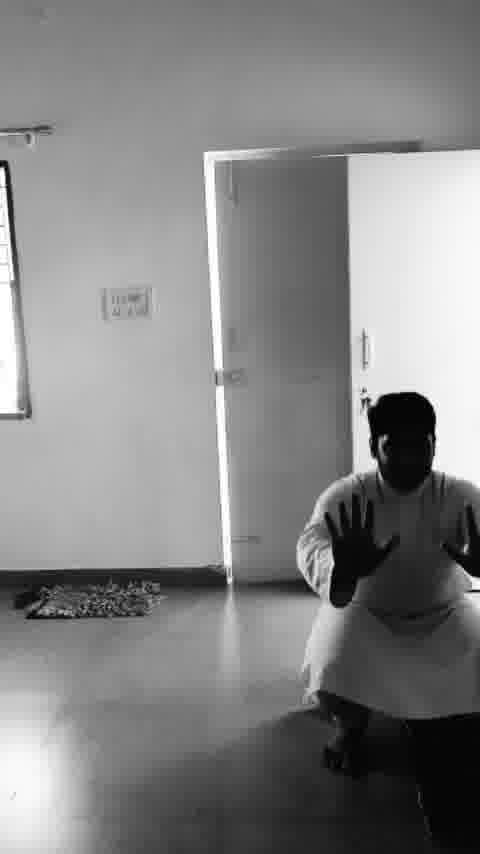duck: (304, 390, 480, 785)
